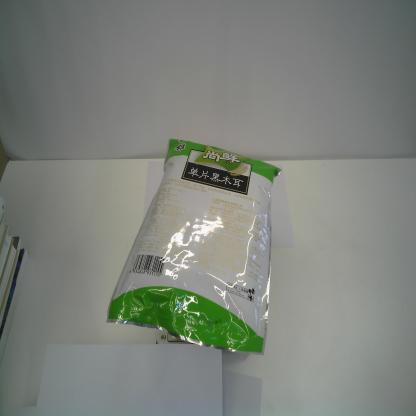Dried Food: (106, 137, 283, 357)
